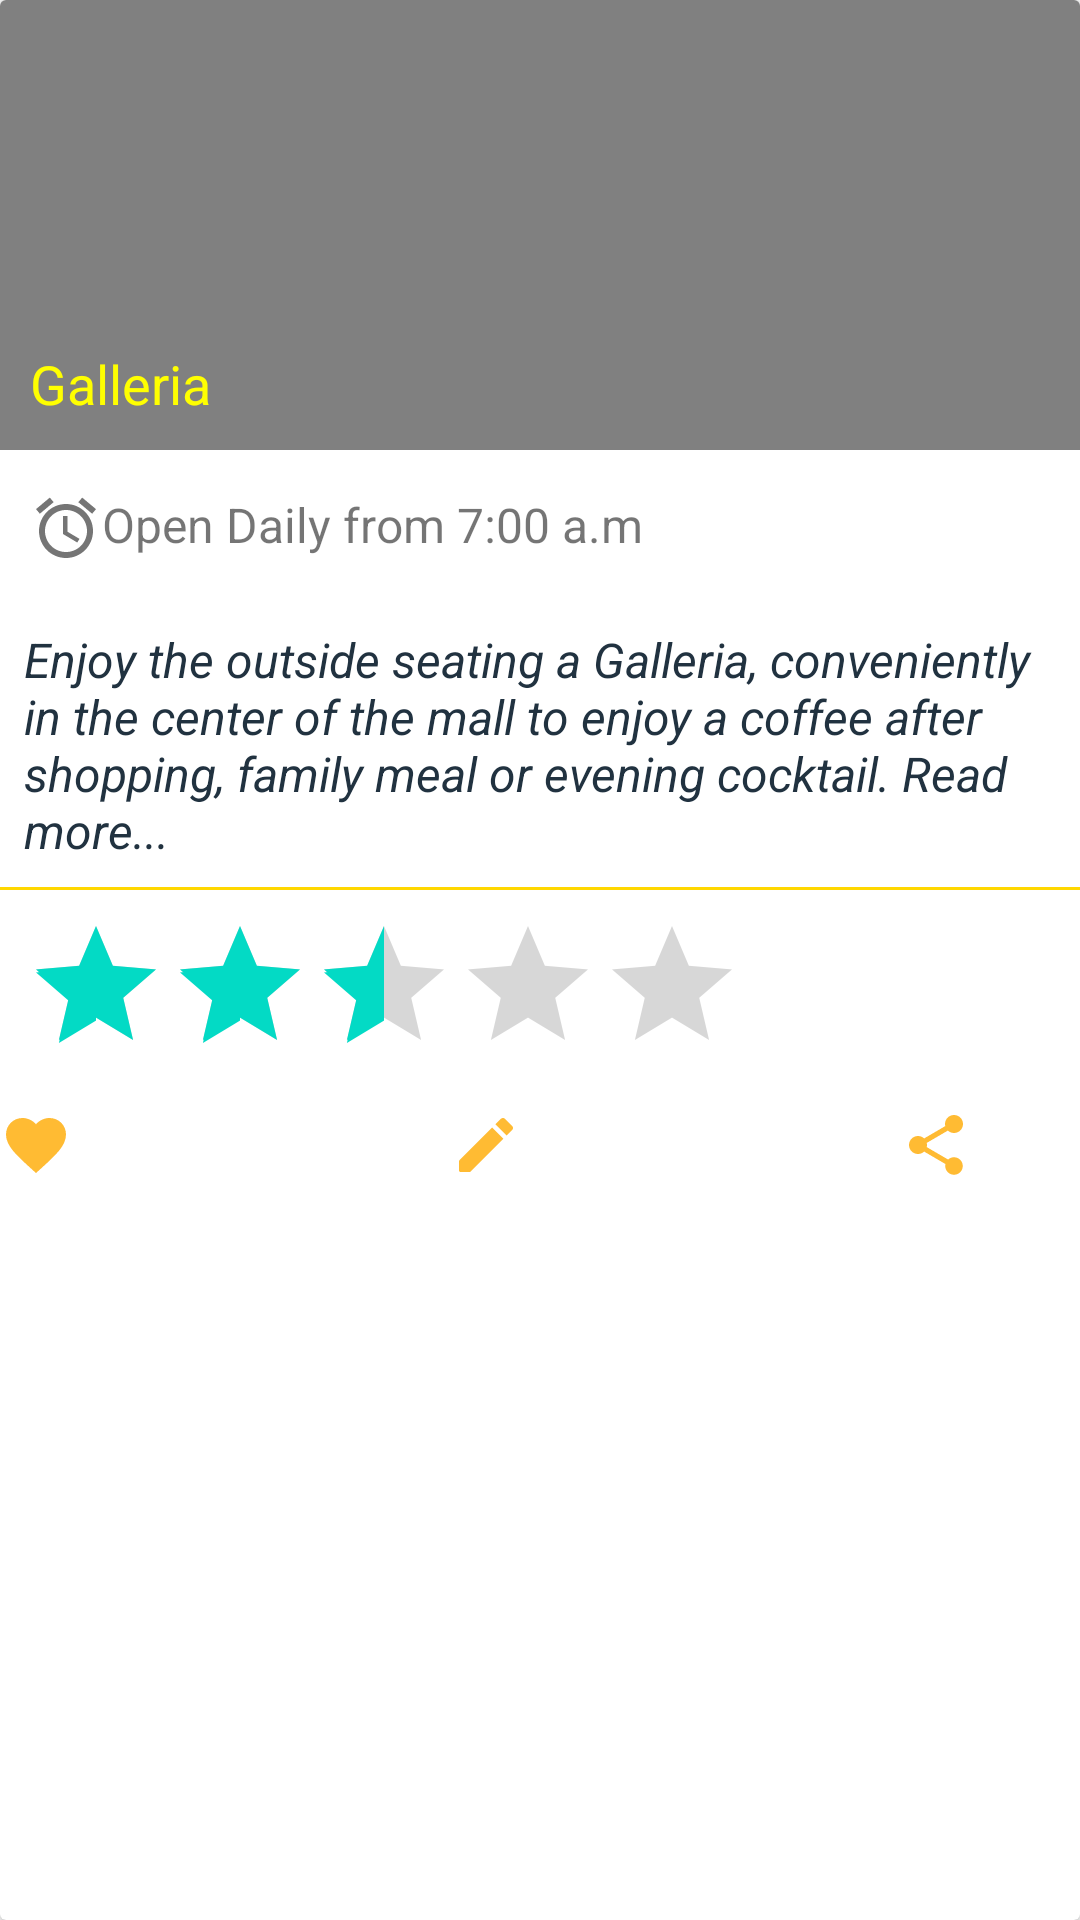

Where to tap for icons on this 1080 × 1920 app screen, as [x,y]:
like: [36,1145]
share: [936,1145]
